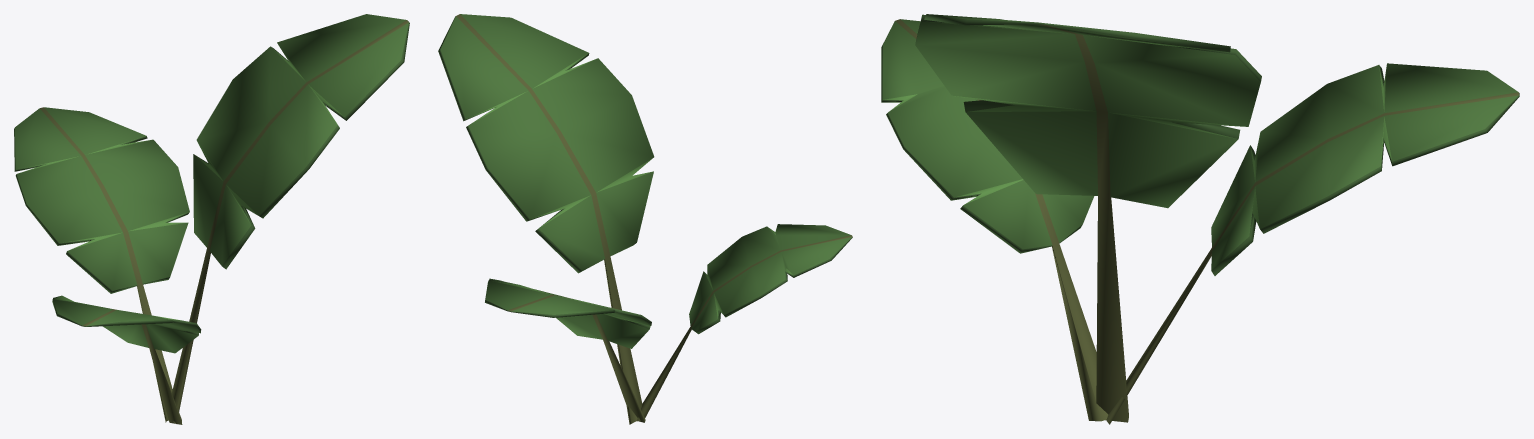
Rendered from JunglePlant_04.glb.
3 views of the same model, side by side, from view 1: azimuth 30°, elevation 25°; view 2: azimuth 150°, elevation 25°; view 3: azimuth 270°, elevation 25° (orthographic). The views are drawn at different scales.
Visible parts, largest first — view 1: JunglePlant_04; view 2: JunglePlant_04; view 3: JunglePlant_04.
Boxes of the visible parts, x1,y1,x2,y2 form: JunglePlant_04: (14,14,409,424); JunglePlant_04: (438,14,852,424); JunglePlant_04: (881,14,1519,424).
Bounding box in the file's own units: 2.06 × 1.91 × 1.99.
1 material, 1 textured.
